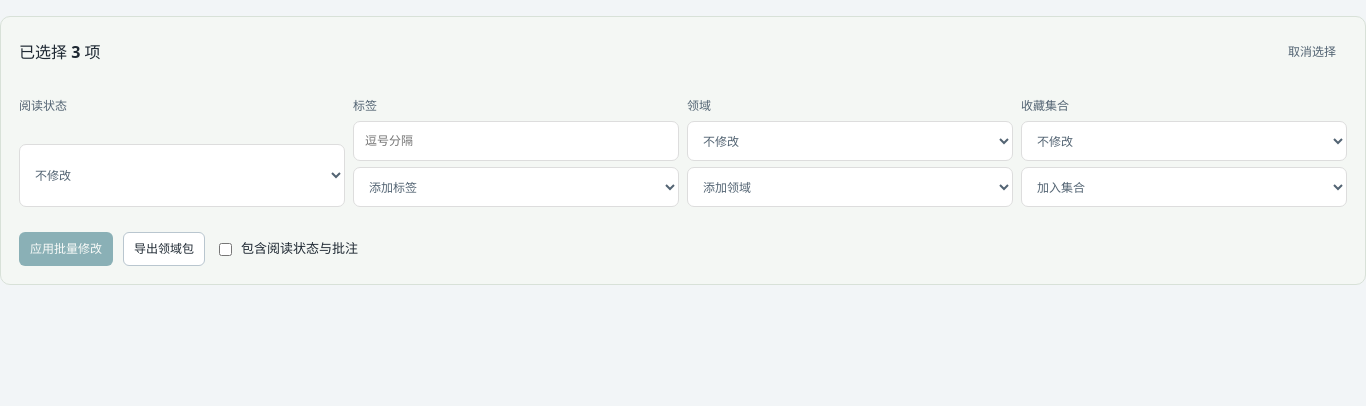
it: SelectionToolbar › retries only failed IDs with the original payload and retains cumulative successes
Select "已读" in the dropdown labelled "阅读状态" at (182, 176), box left=19, top=144, right=345, bottom=207
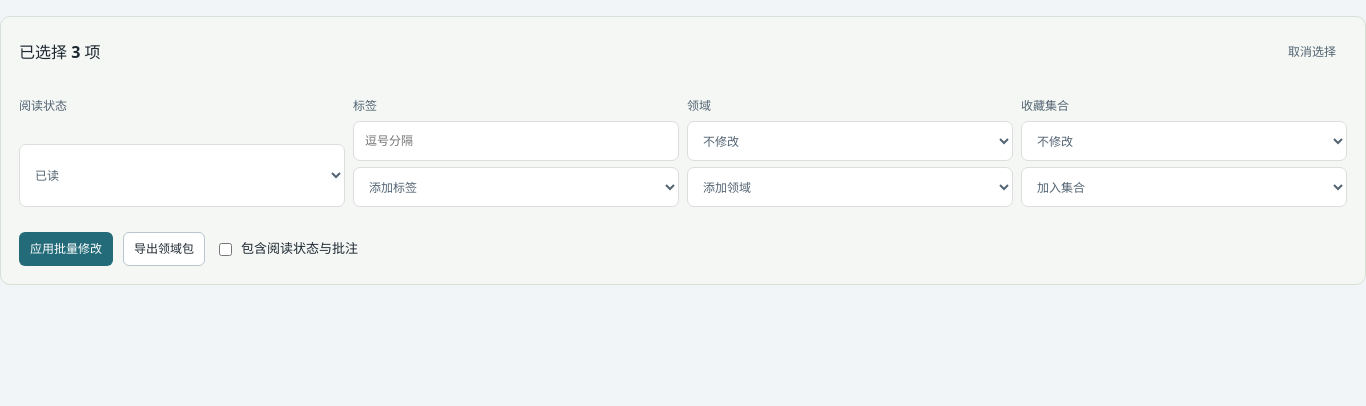
Type "A，B" into the field named "批量标签".
click(516, 141); type("A，B")  # box left=353, top=121, right=679, bottom=161
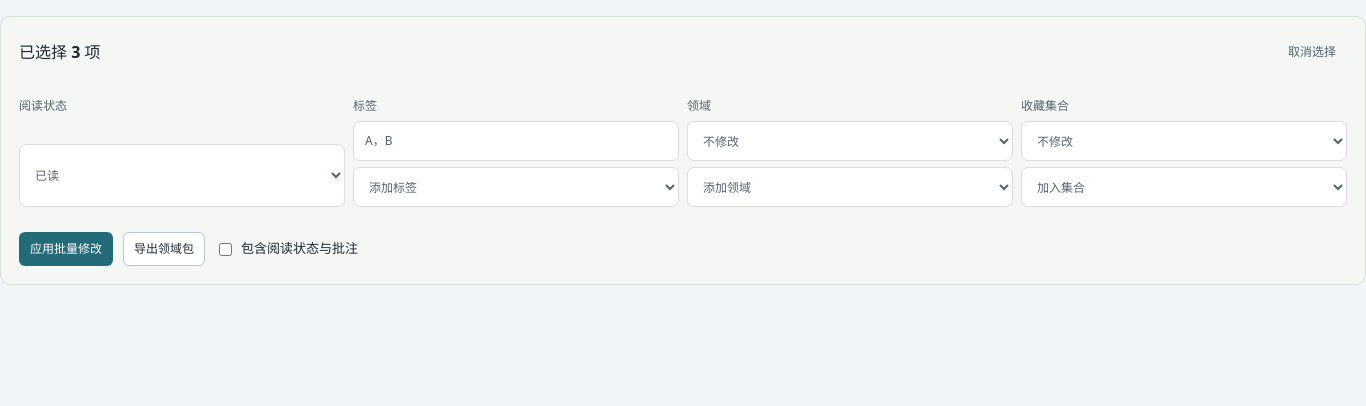
Click the button "应用批量修改".
click(66, 249)  # box left=19, top=232, right=113, bottom=266
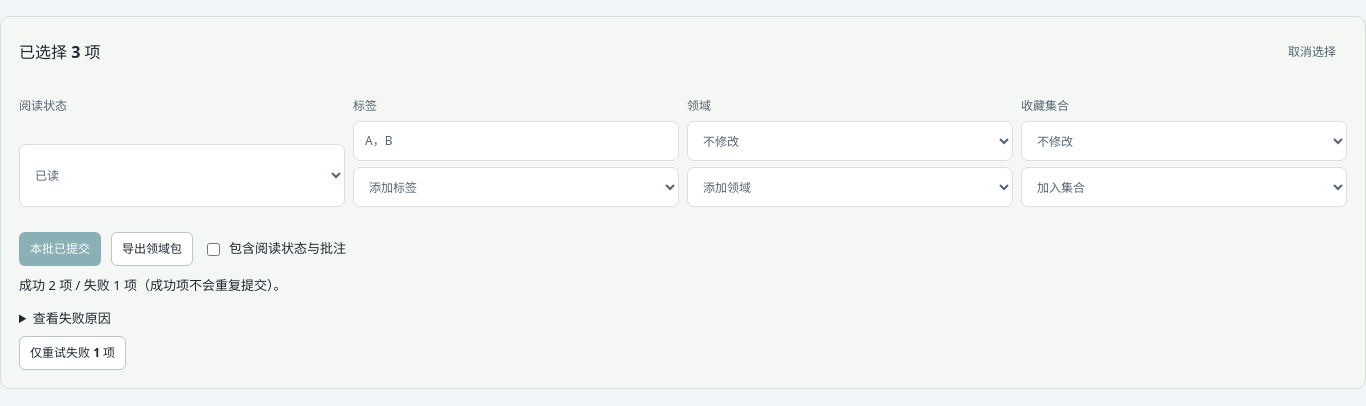
Check: the text "成功 2 项 / 失败 1 项（成功项不会重复提交）。" is shown, box left=19, top=276, right=286, bottom=294
Check: the button "本批已提交" is disabled, box left=19, top=232, right=101, bottom=266
Click the button "仅重试失败 1 项".
click(73, 353)  # box left=19, top=336, right=126, bottom=370
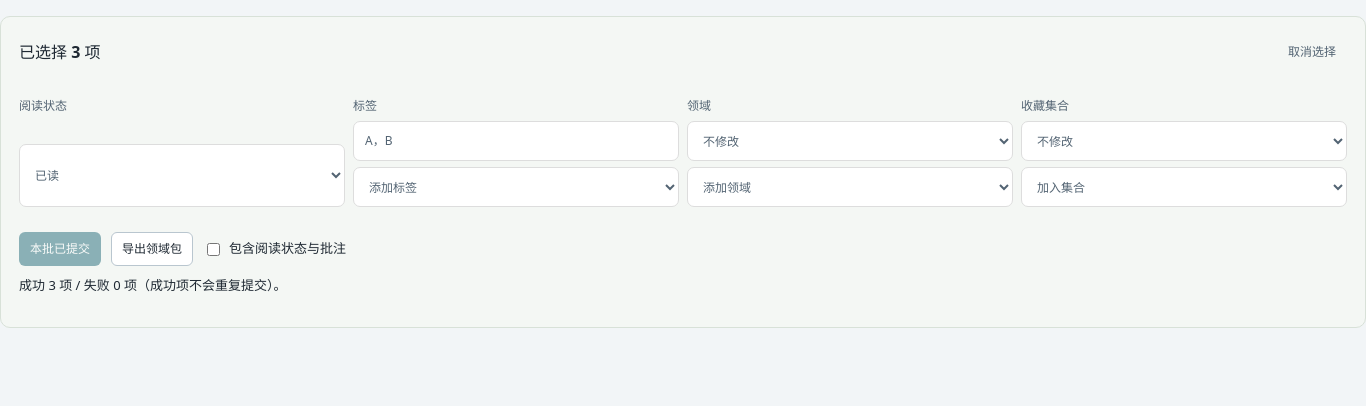
Check: the text "成功 3 项 / 失败 0 项（成功项不会重复提交）。" is shown, box left=19, top=276, right=286, bottom=294
Check: the button "仅重试失败" is gone
